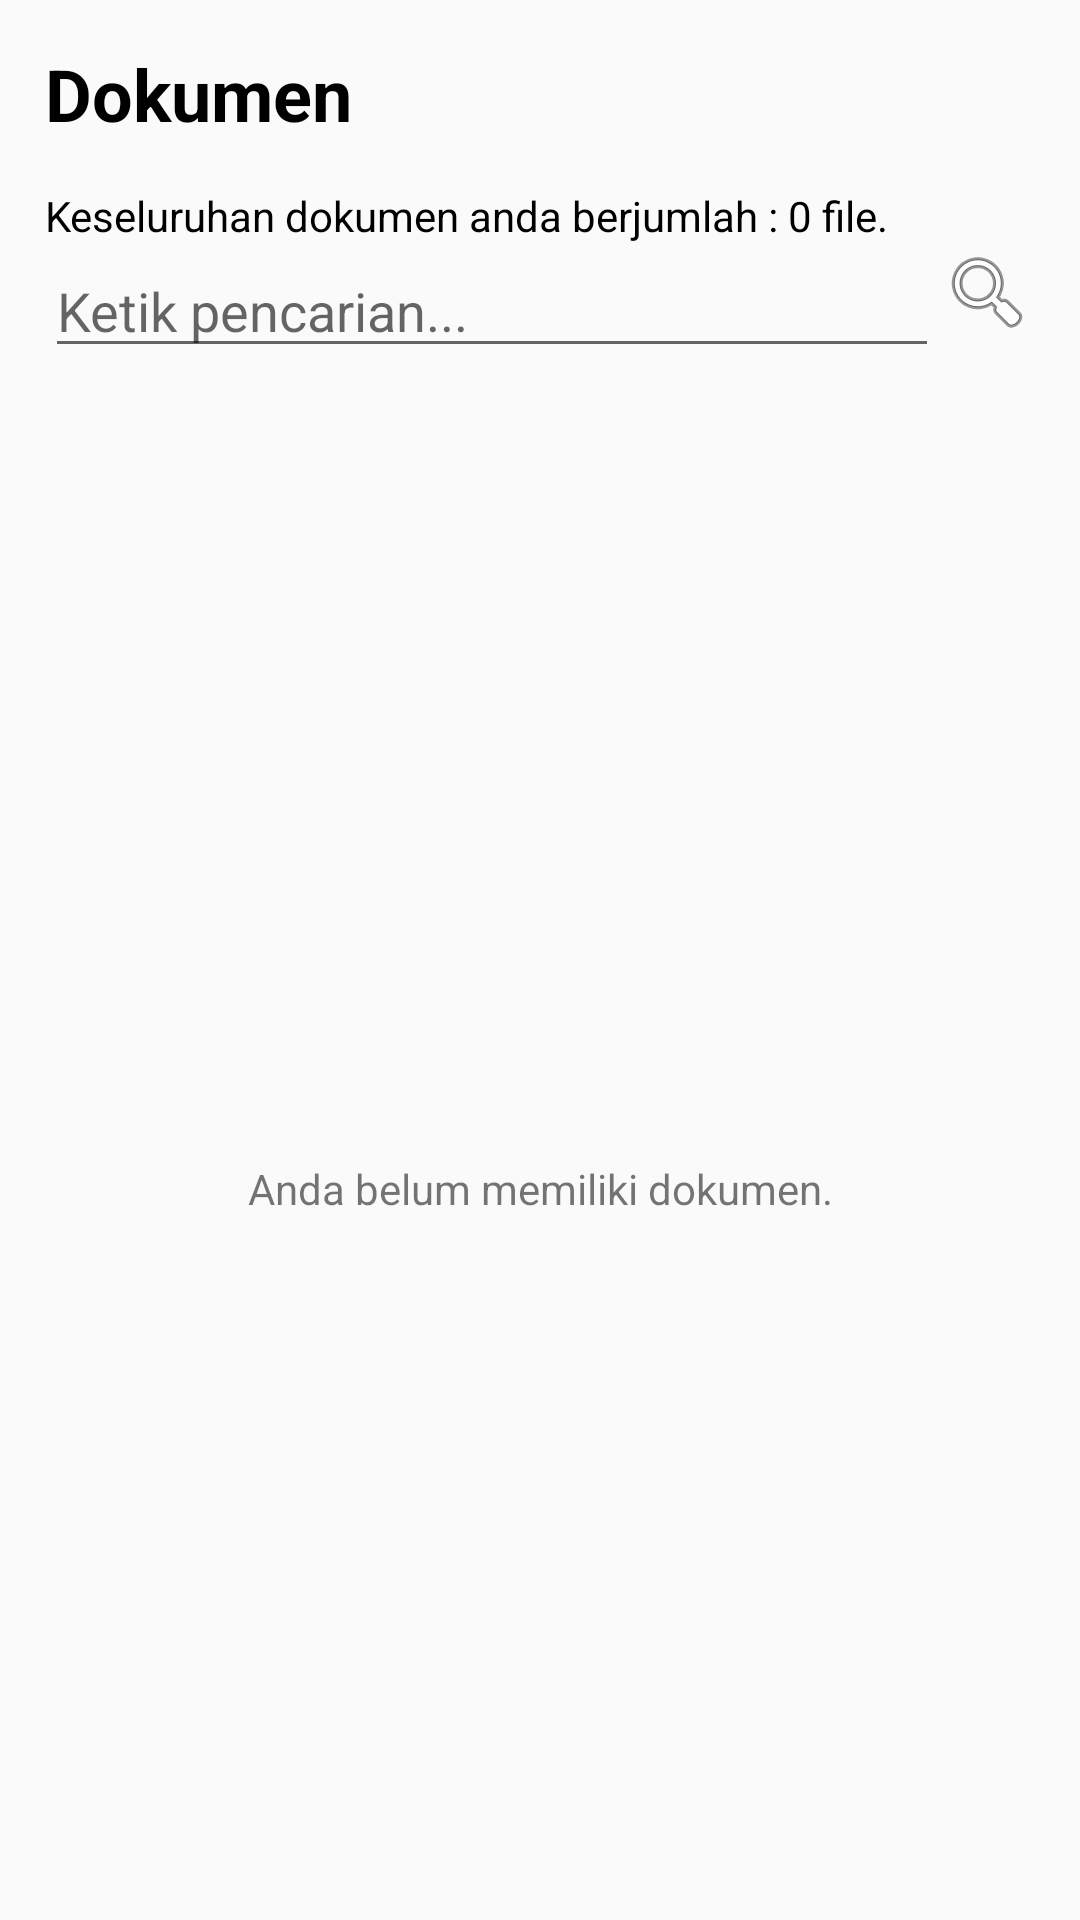

Screen size 1080×1920. Icon name, then its box in pixels as (left=x1, top=y1, right=x2, bottom=y2):
search: (left=951, top=257, right=1023, bottom=328)
